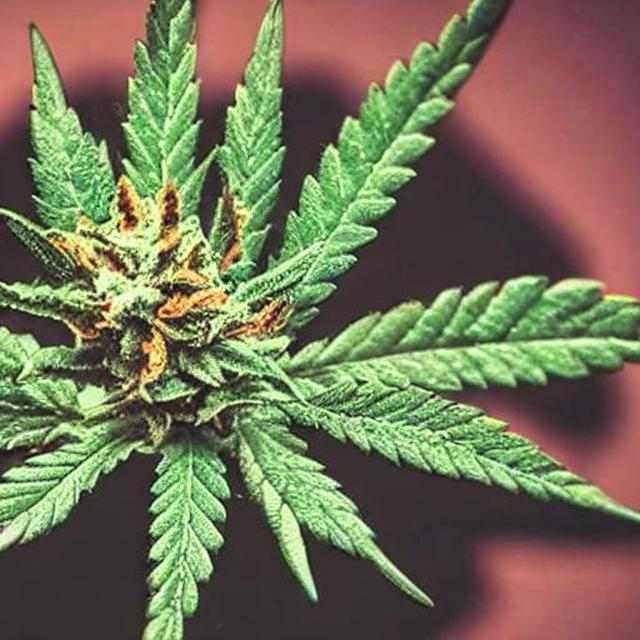Marijuana Plant: (0, 35, 502, 618)
